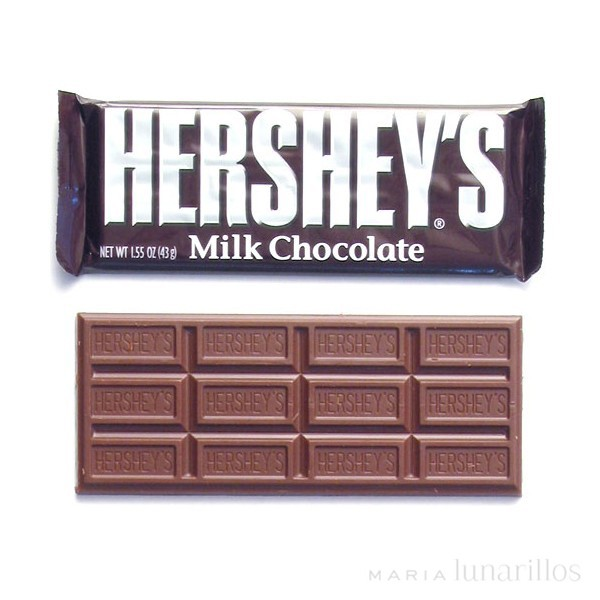hershey: (52, 88, 547, 283)
